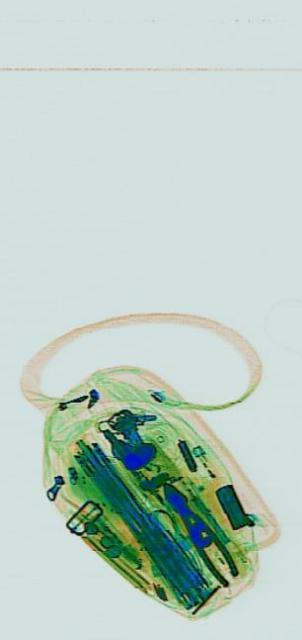Pliers: (157, 466, 238, 596)
